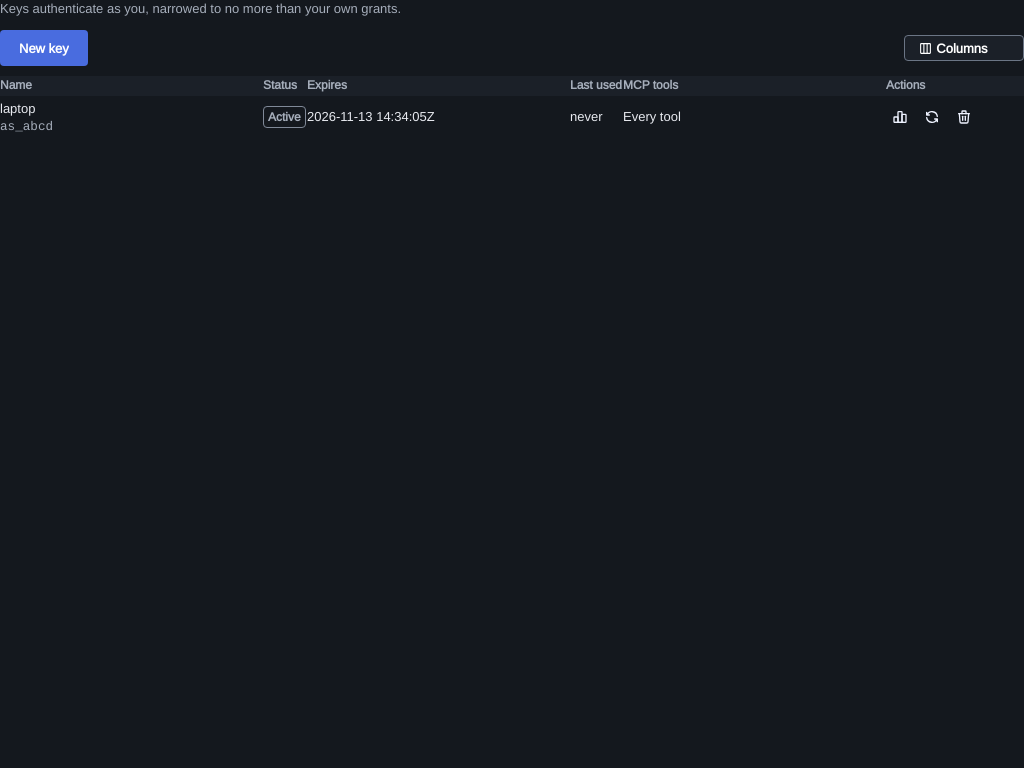
Test: ApiKeysPanel › revokes a key only once its name is typed, and announces it
Click the button named "Revoke laptop" at (964, 117), box [950,103,978,131]
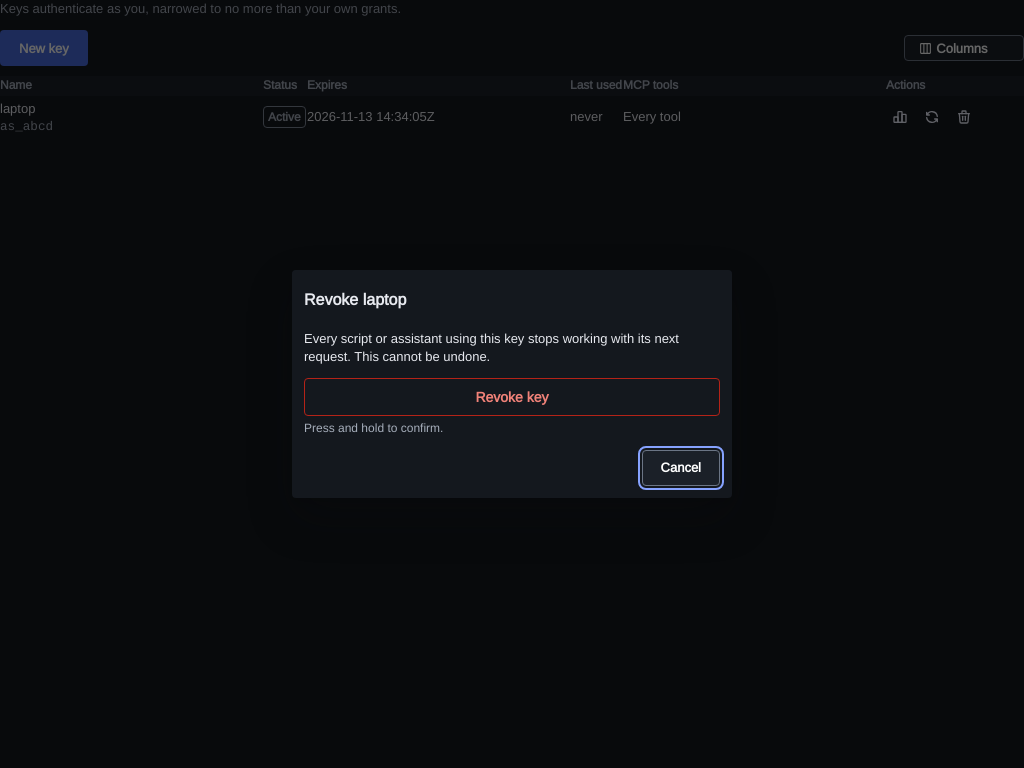
Press the mouse on the button "Revoke key Revoke key" at (512, 398), box [304,378,720,416]
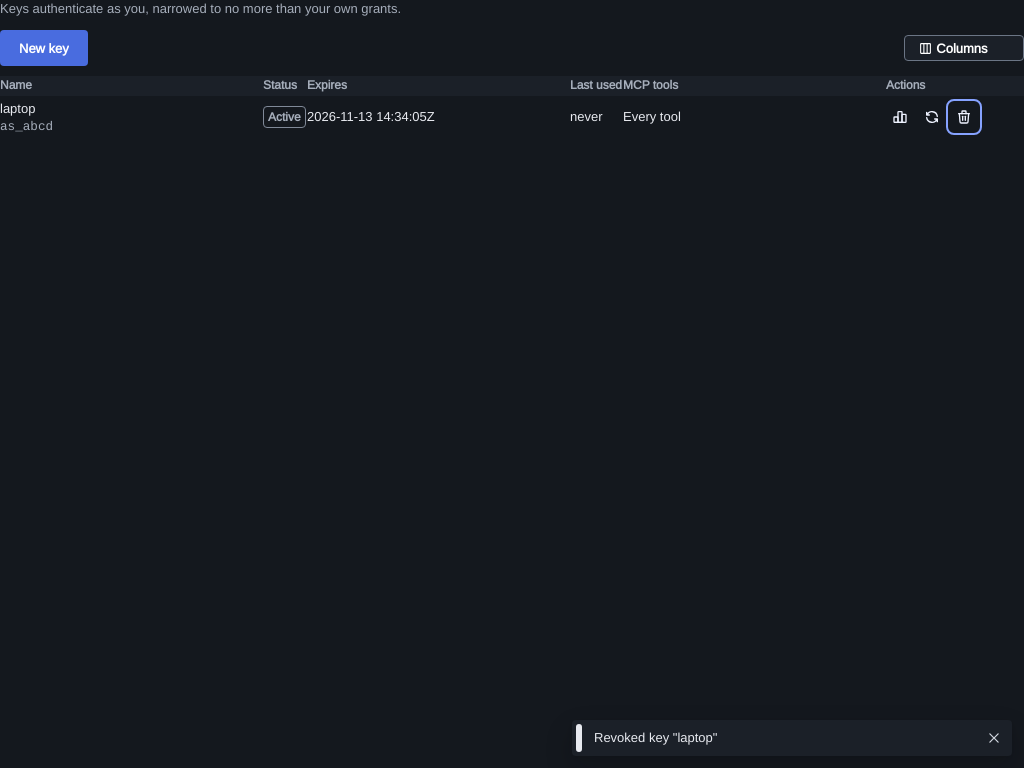
Result: the message reads "Revoked key \"laptop\"" at [594,729,717,746]
Result: the dialog is gone
